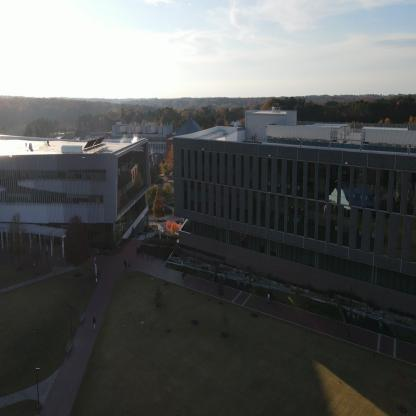Fitts- Woolard: (166, 96, 415, 329)
Hunt Library: (0, 112, 157, 254)
